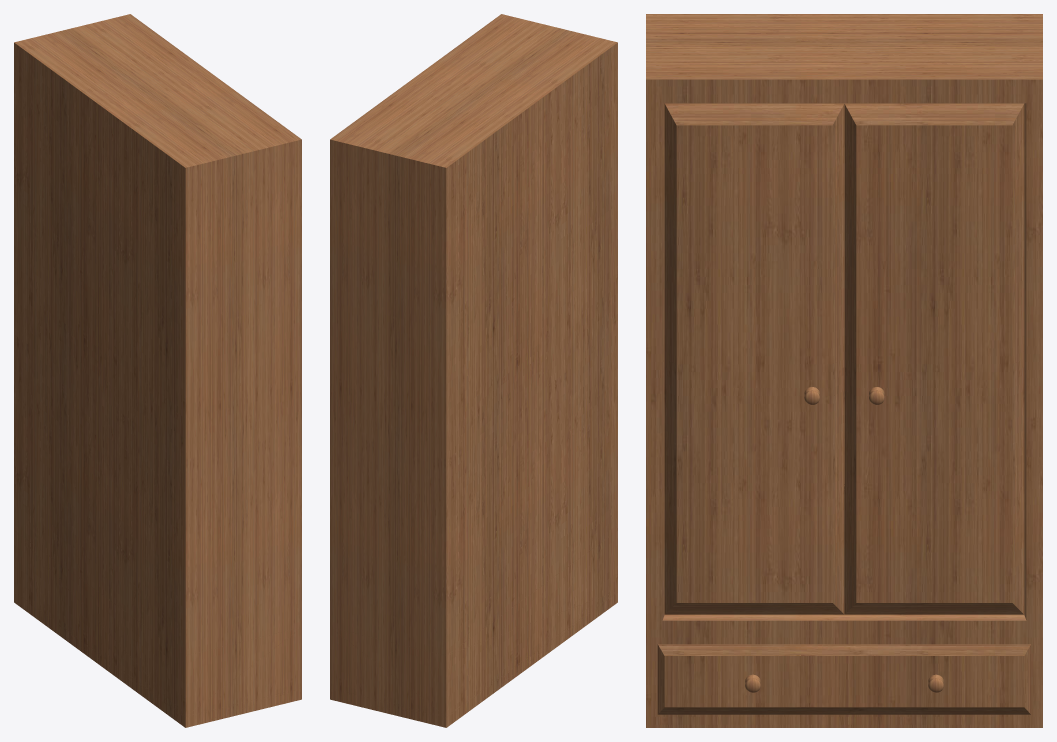
The model's file is Drobe1.fbx.
3 renders of one model, left to right at view 1: azimuth 30°, elevation 25°; view 2: azimuth 150°, elevation 25°; view 3: azimuth 270°, elevation 25°, orthographic. The views are drawn at different scales.
Parts seen in each view (by area): view 1: Wardrobe; view 2: Wardrobe; view 3: Wardrobe.
Boxes of the visible parts, <box> form: Wardrobe: <box>14,14,301,727</box>; Wardrobe: <box>330,14,617,727</box>; Wardrobe: <box>646,14,1042,727</box>.
Size of the model in its own units: 510 by 224 by 919.
2 materials, 2 textured.
